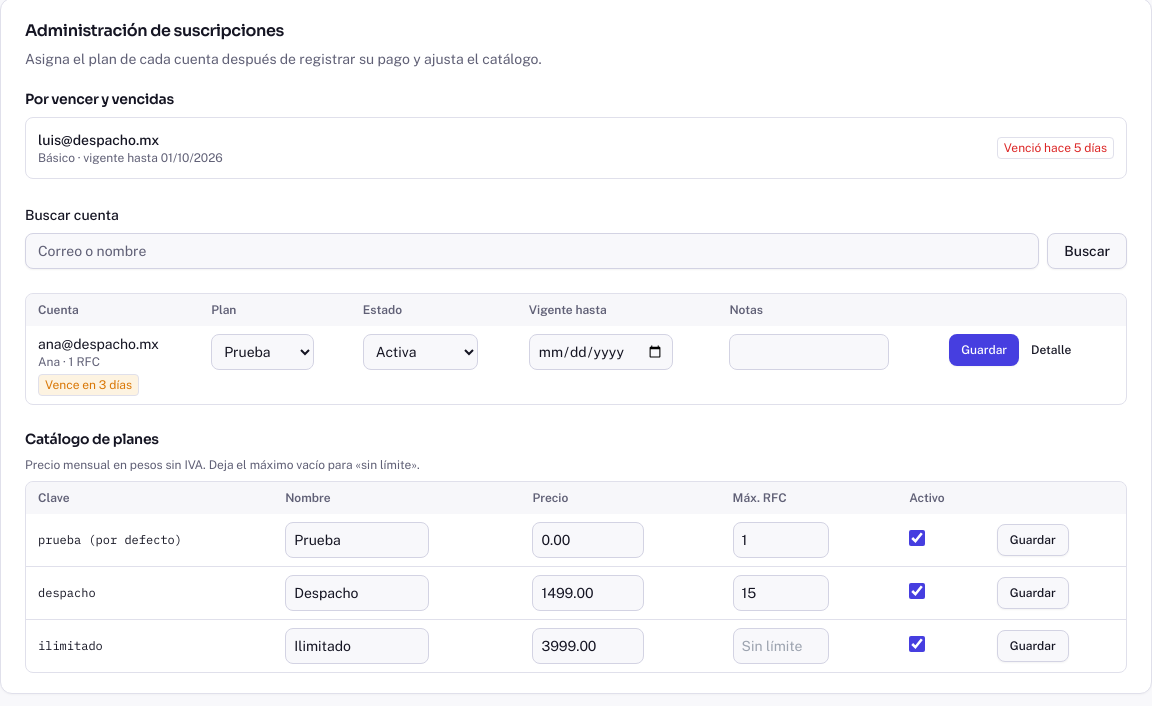
AdminSuscripciones › el administrador registra un pago y guarda los datos fiscales
Later steps or results of the test are not shown.
Click the button with aria-label "Detalle de ana@despacho.mx" at [1051, 350], box top-left (1019, 334), bottom-right (1083, 366)
(page scrolled)
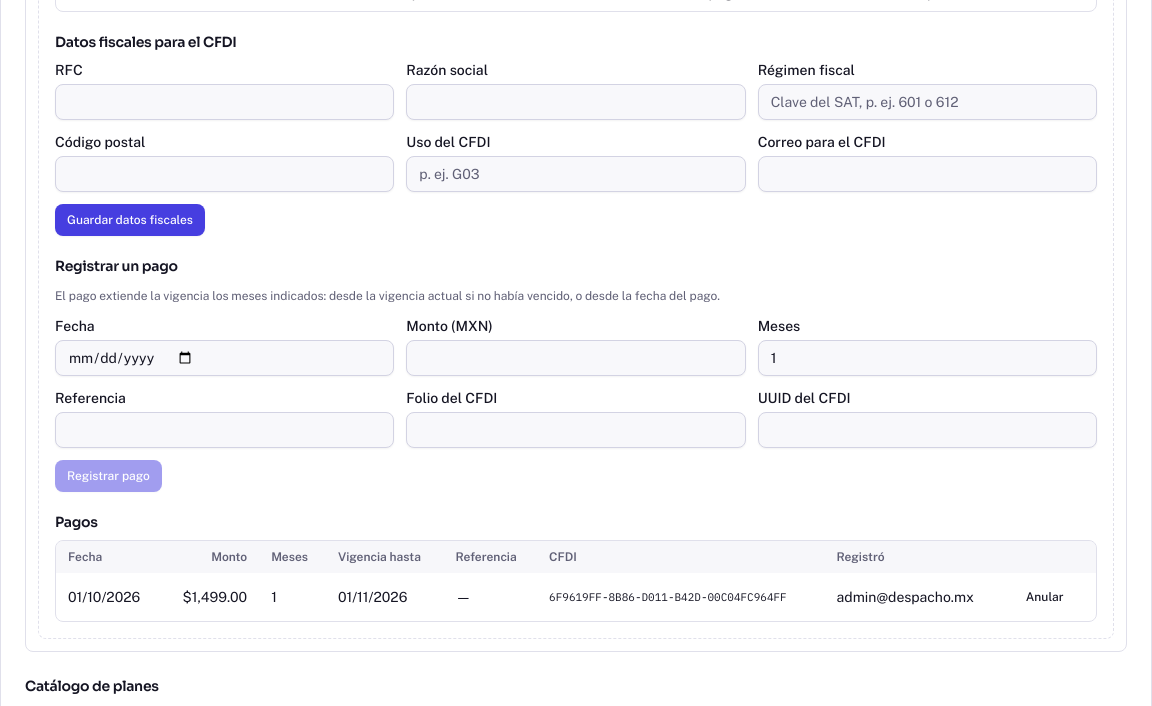
Now the button "Registrar pago" is disabled, box top-left (55, 460), bottom-right (162, 492)
Type "2026-10-01" into the date field labelled "Fecha" at [225, 358], box top-left (55, 340), bottom-right (394, 376)
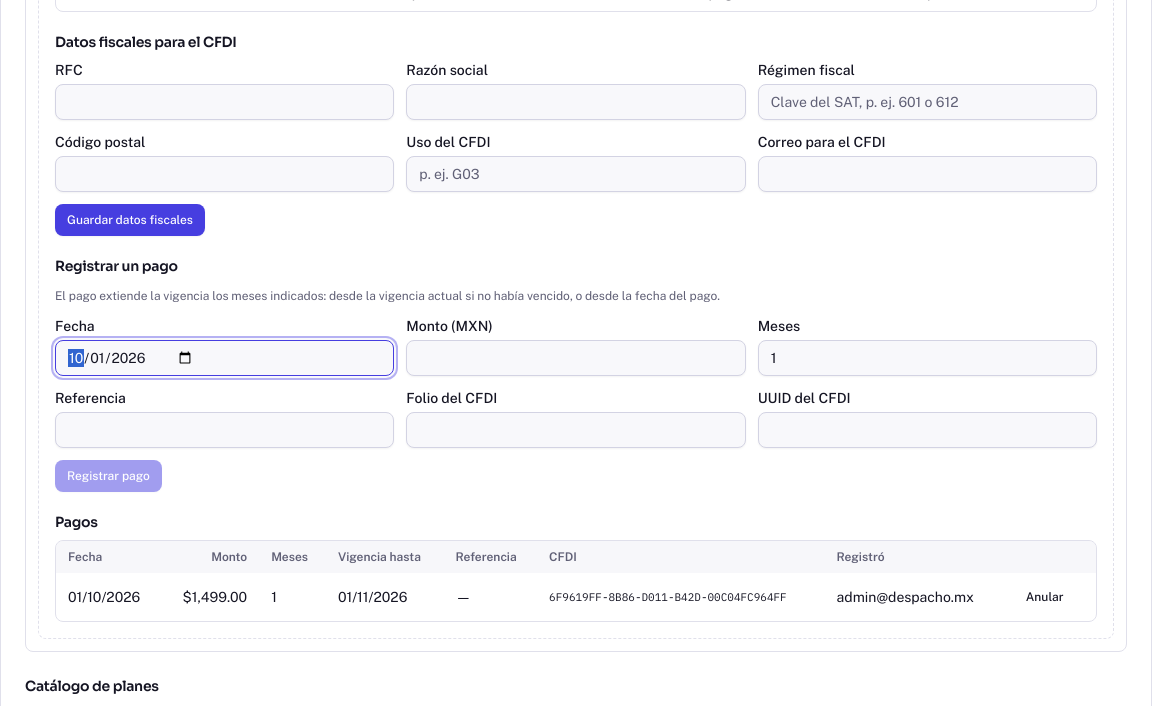
Type "1499.50" into the field labelled "Monto (MXN)" at [576, 358], box top-left (406, 340), bottom-right (746, 376)
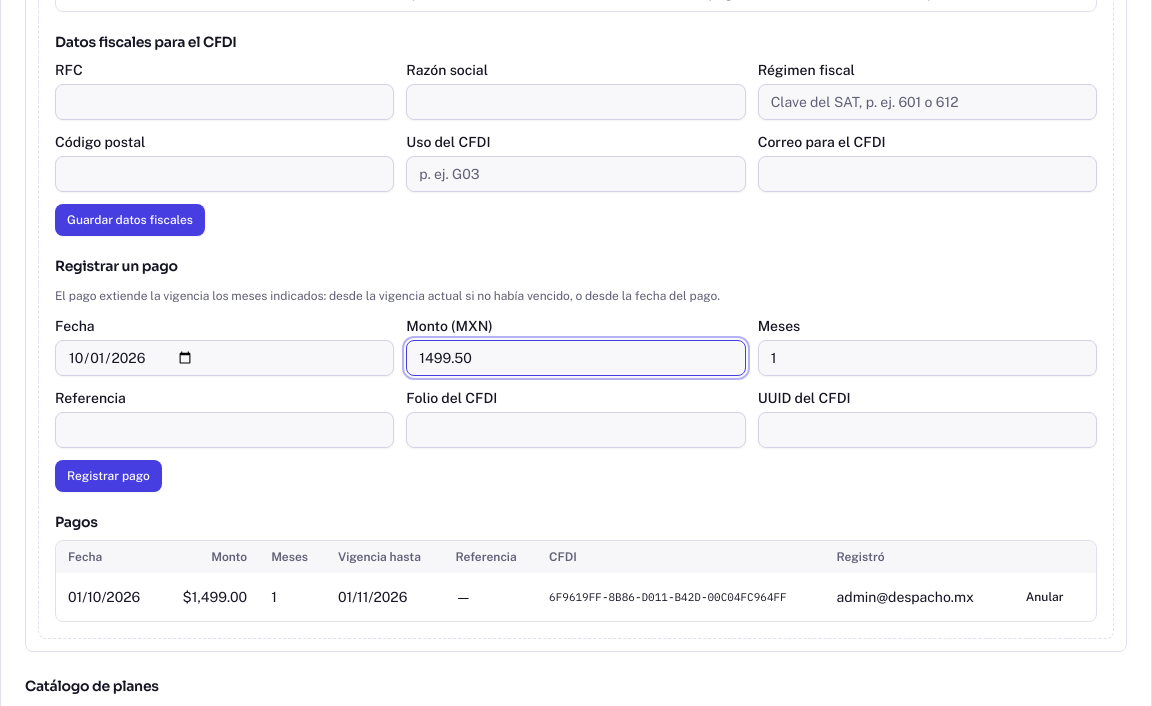
Type "A-16" into the field labelled "Folio del CFDI" at [576, 430], box top-left (406, 412), bottom-right (746, 448)
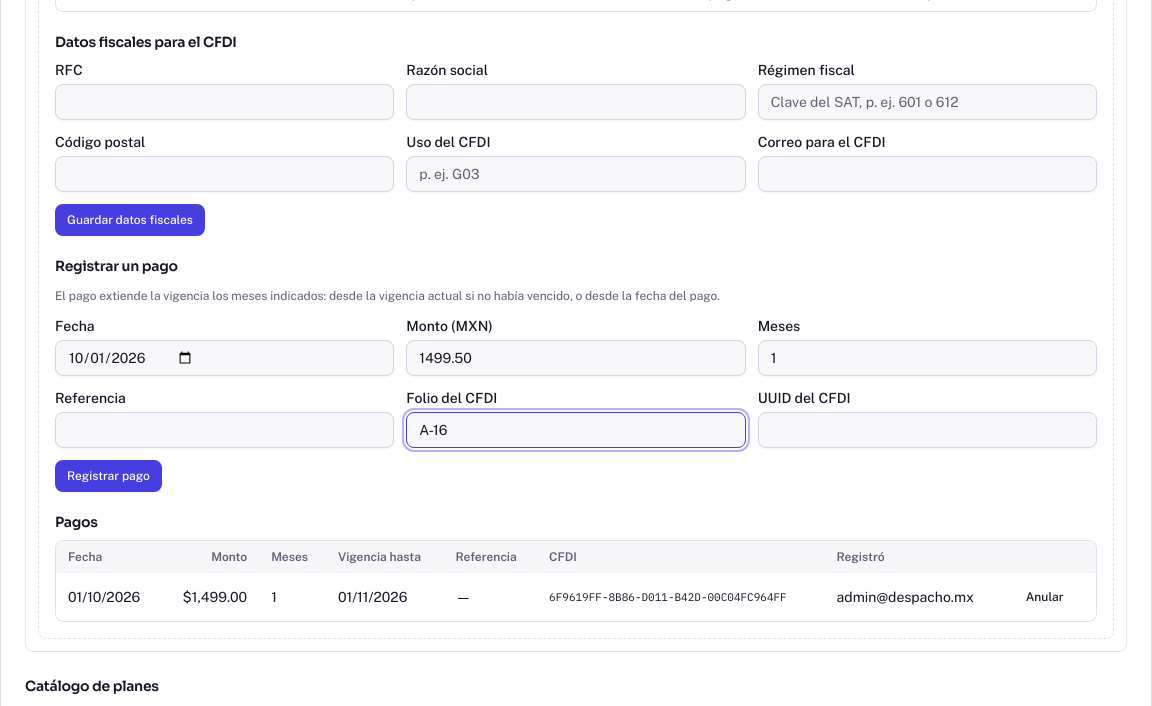
Click the button "Registrar pago" at [108, 476], box top-left (55, 460), bottom-right (162, 492)
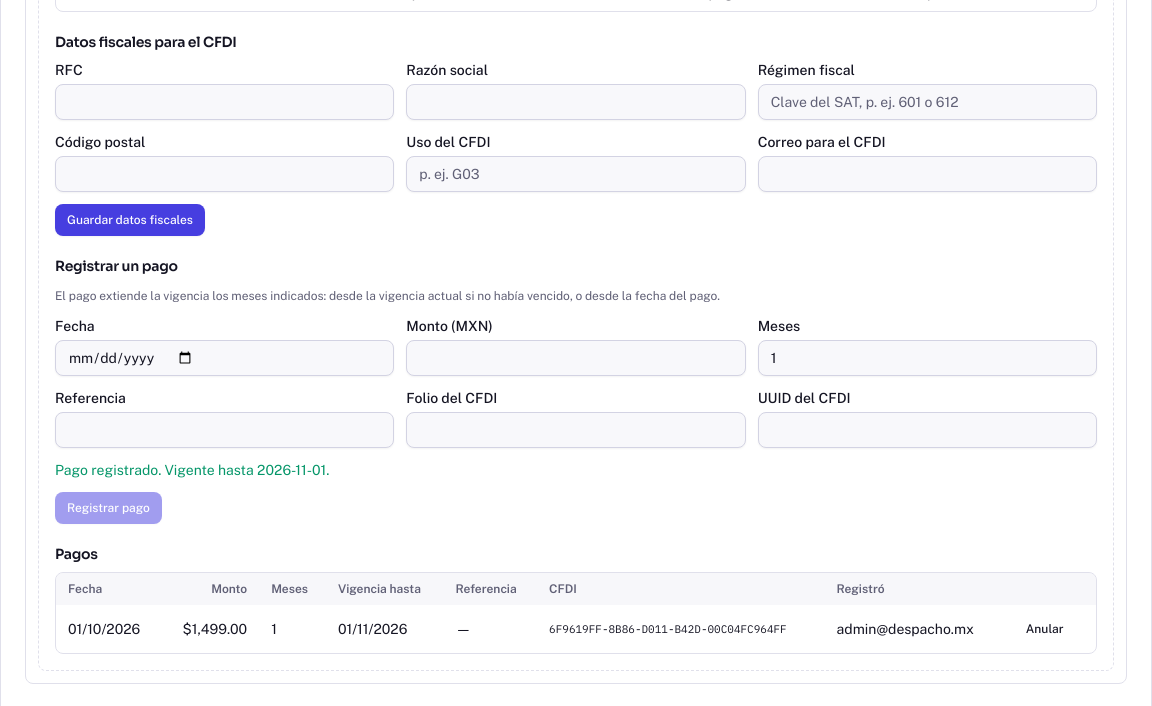
Now the text "Pago registrado. Vigente hasta 2026-11-01." is shown, box top-left (55, 462), bottom-right (329, 478)
